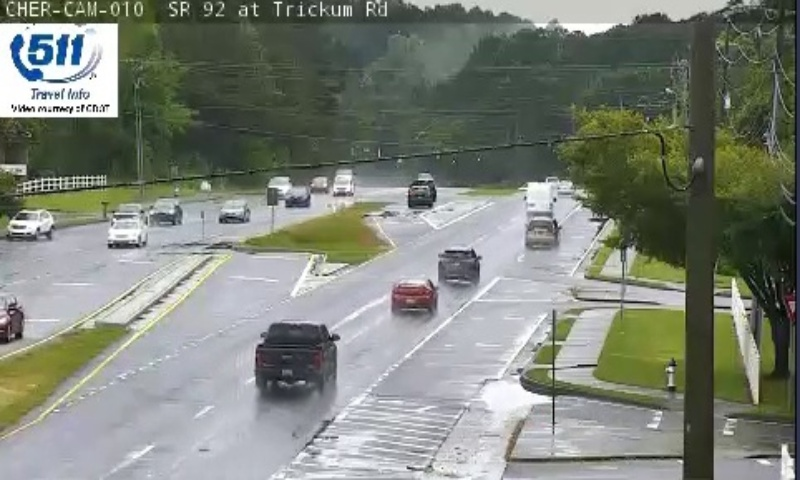car: (255, 323, 336, 380), (391, 277, 436, 310), (438, 249, 478, 279), (524, 216, 556, 247)
van: (526, 185, 554, 221)
